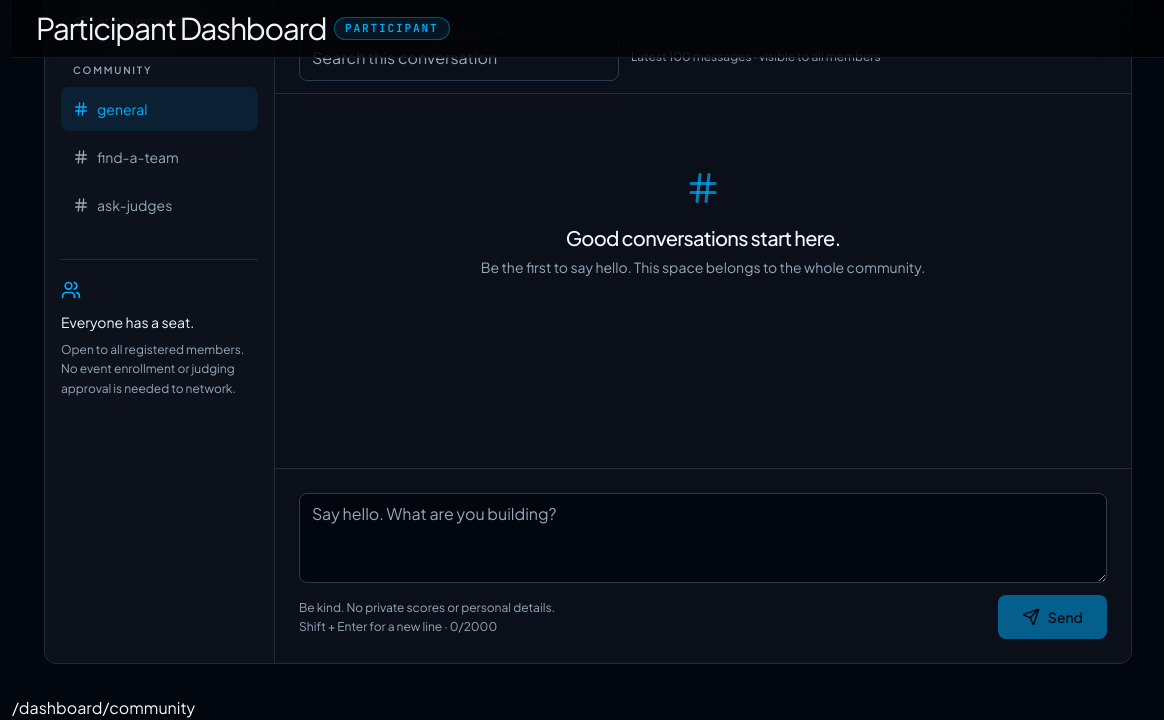
Test: community networking channel › preserves drafts on failed writes and allows retry
Later steps or results of the test are not shown.
(page scrolled)
Type "Hello community" into the text box named "Message #" at coordinates (703, 538), box x1=299 y1=494 x2=1107 y2=584
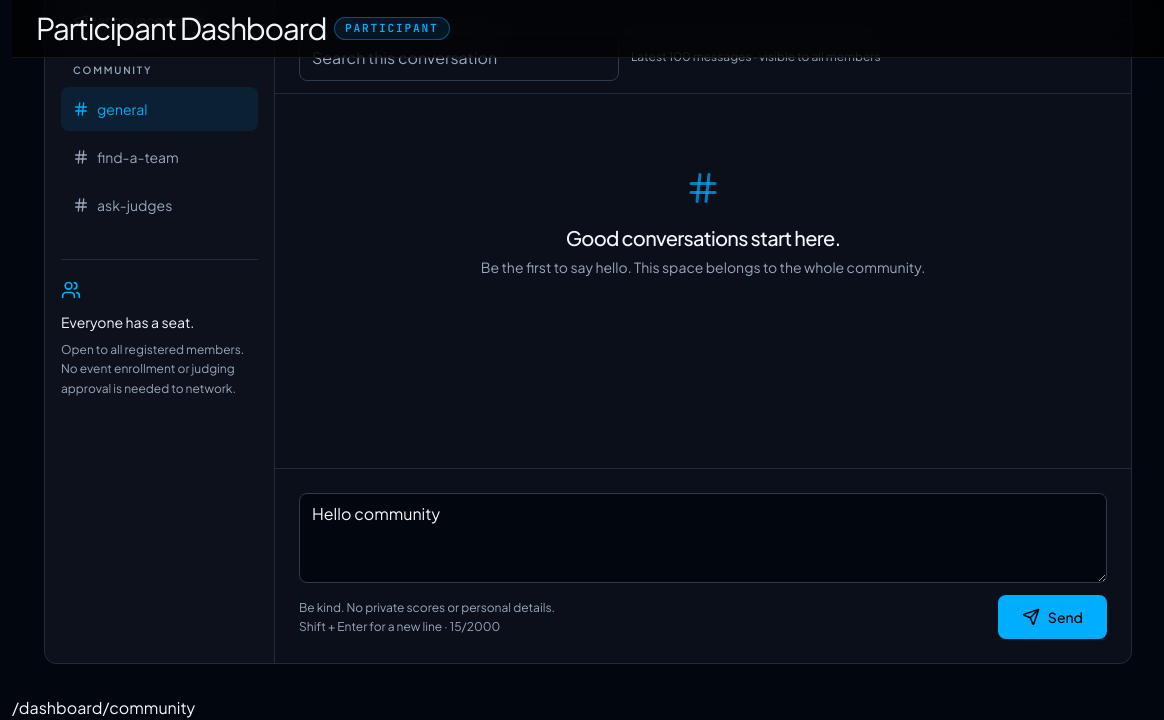
Click the button "Send" at coordinates (1052, 618), box x1=998 y1=596 x2=1107 y2=640
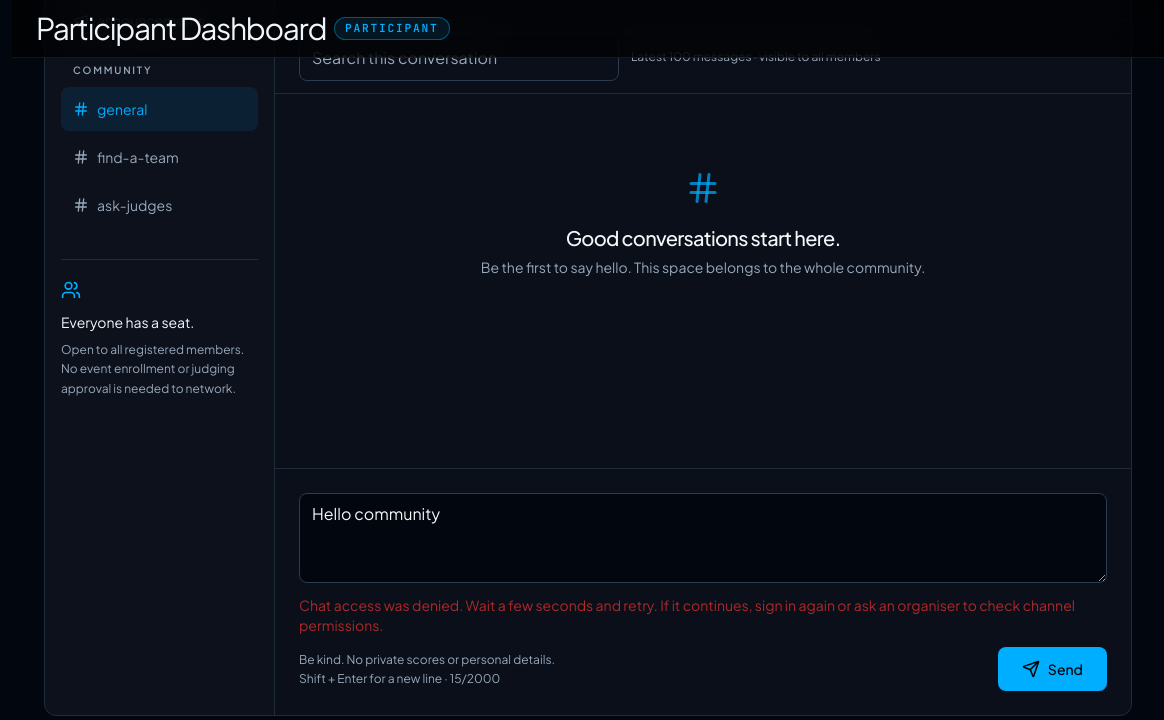
Result: the message shows "Chat access was denied" at x1=299 y1=596 x2=1075 y2=634
